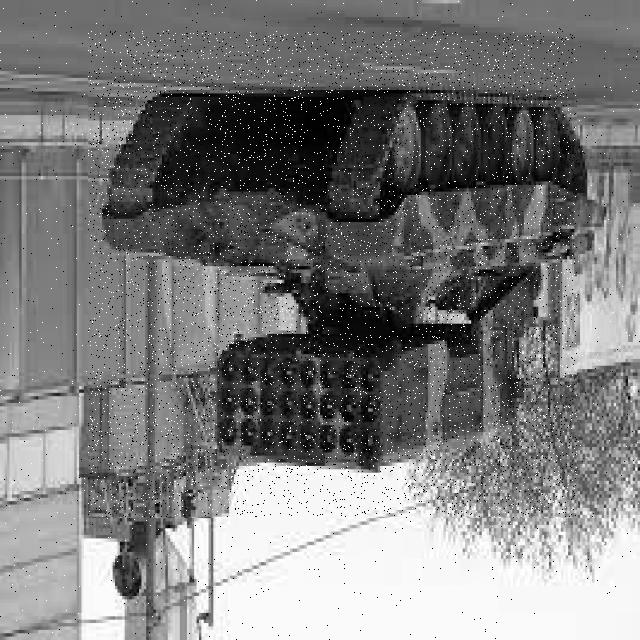MIL_MBT: (89, 31, 577, 517)
